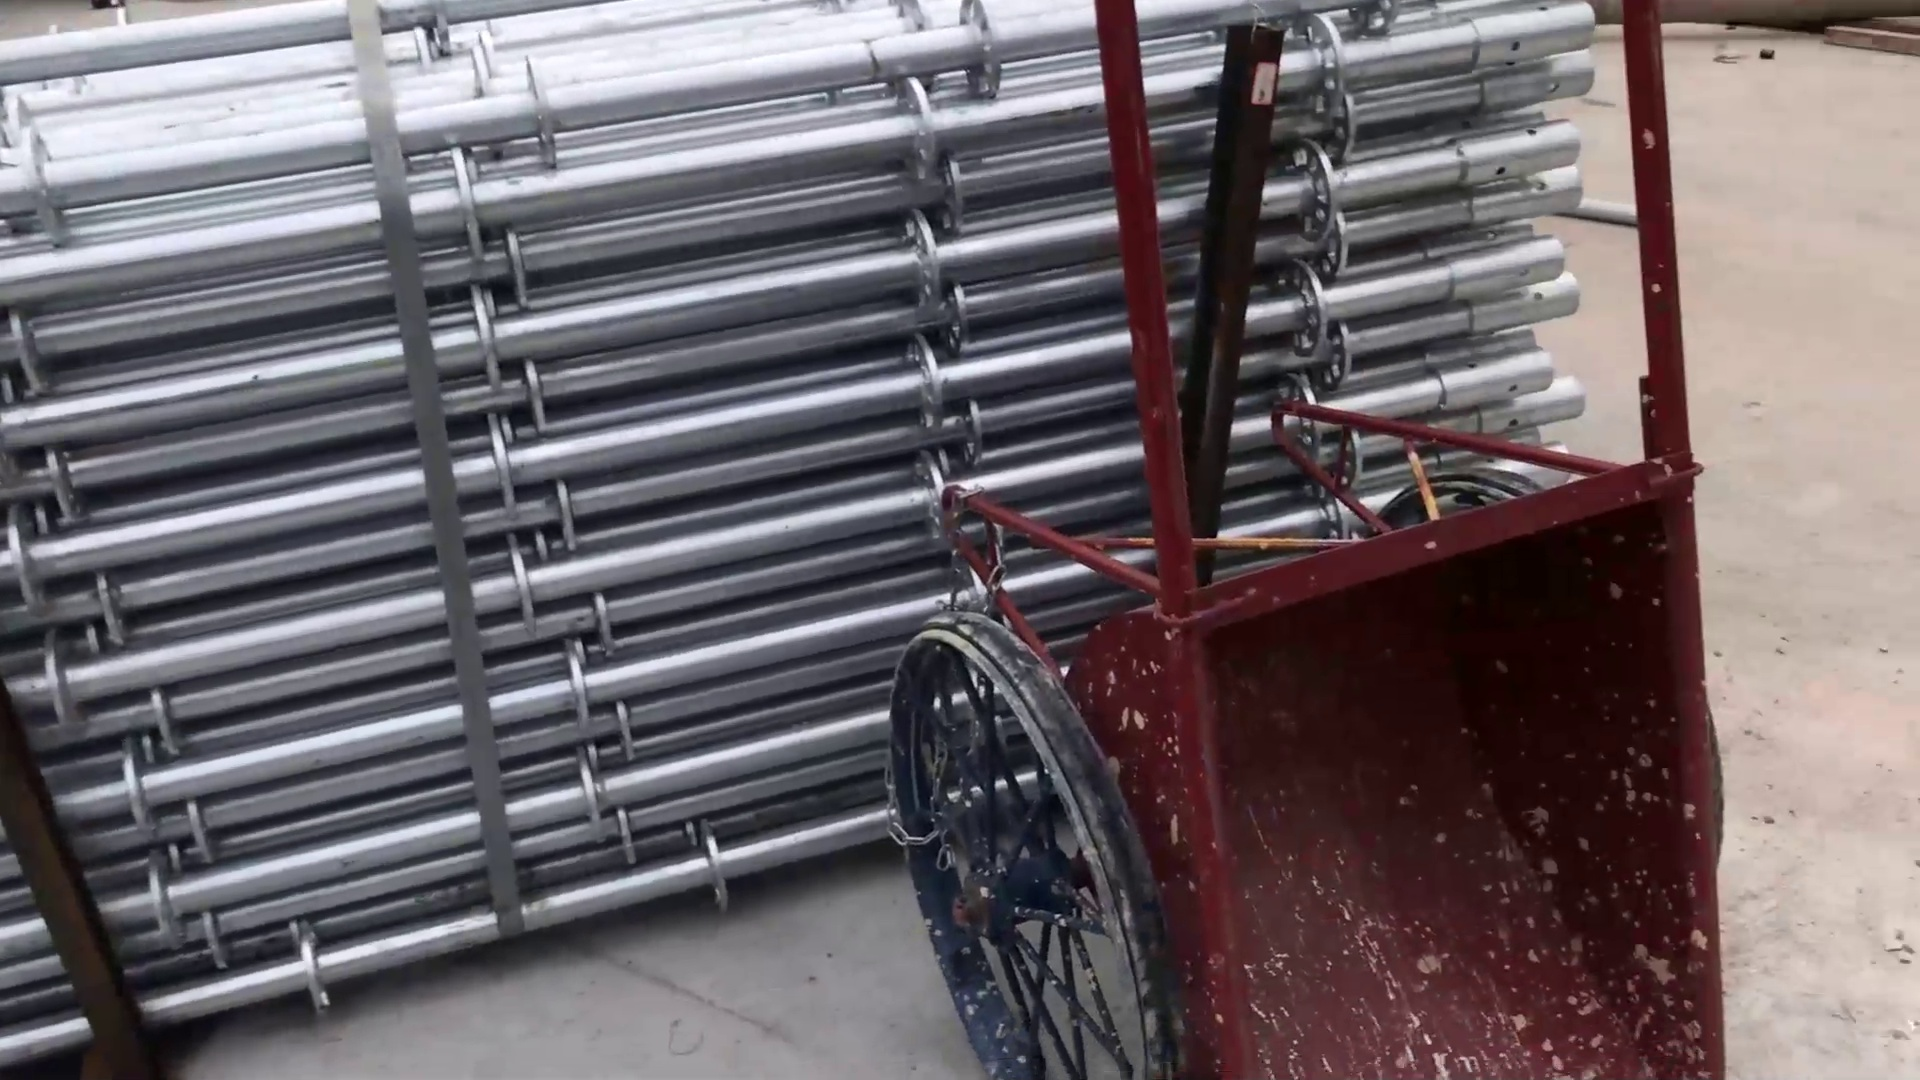handcart: (878, 7, 1745, 1080)
scaffold: (4, 1, 870, 1069)
